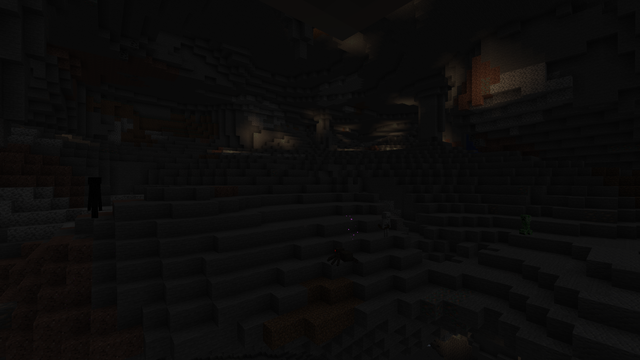araignees: (328, 245, 357, 266)
creepers: (520, 213, 530, 234)
endermens: (88, 175, 99, 218)
squelettes: (380, 211, 390, 237)
